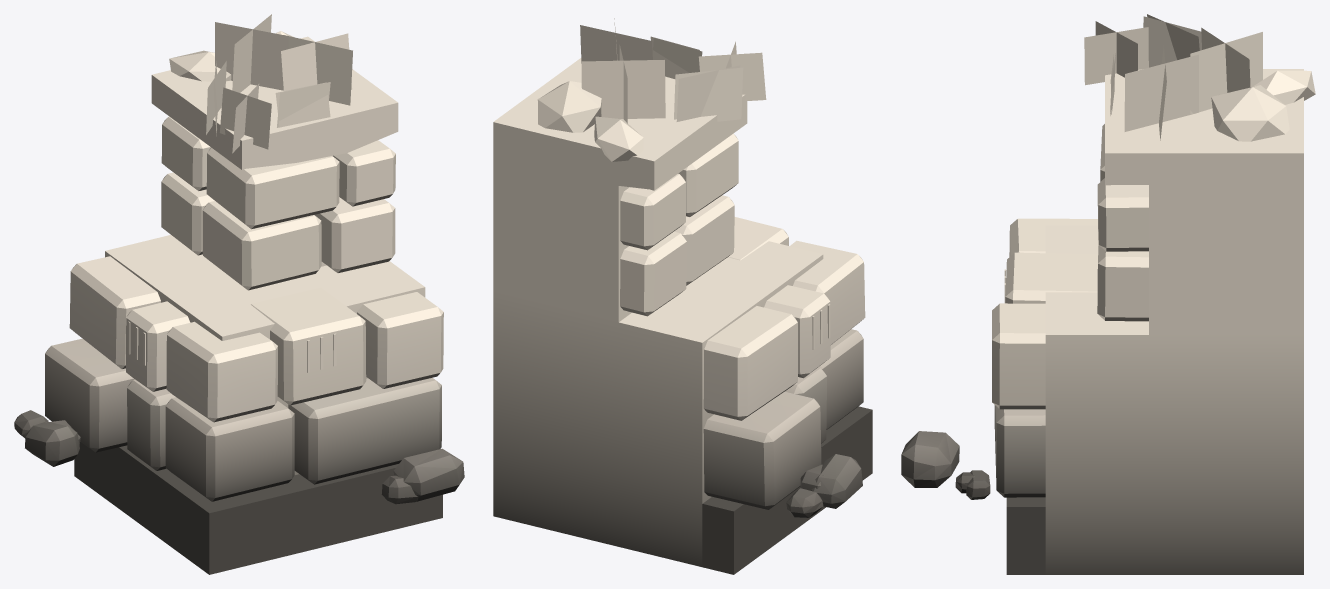
File: SM_VK_Quarry_Face_Corner.fbx
The picture shows the model from 3 angles, left to right: view 1: azimuth 30°, elevation 25°; view 2: azimuth 150°, elevation 25°; view 3: azimuth 270°, elevation 25°; orthographic projection. The views are drawn at different scales.
Parts seen in each view (by area): view 1: SM_VK_Quarry_Face_Corner.001; view 2: SM_VK_Quarry_Face_Corner.001; view 3: SM_VK_Quarry_Face_Corner.001.
Boxes of the visible parts, x1,y1,x2,y2 form: SM_VK_Quarry_Face_Corner.001: (14, 14, 464, 574); SM_VK_Quarry_Face_Corner.001: (493, 18, 872, 574); SM_VK_Quarry_Face_Corner.001: (901, 14, 1315, 574).
Size of the model in its own units: 3.08 by 4.12 by 3.21.
